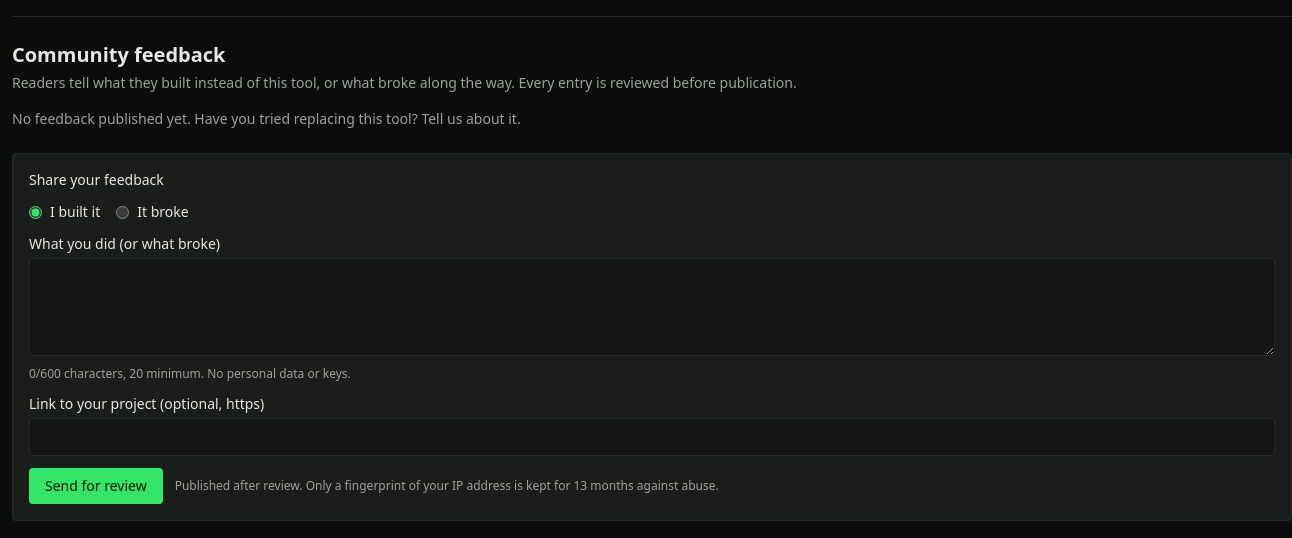
RetoursFiche › envoie un retour (avec la langue) et remercie
The width and height of the screenshot is (1292, 538).
Click the radio button labelled "It broke" at (123, 212), box [116,206,129,218]
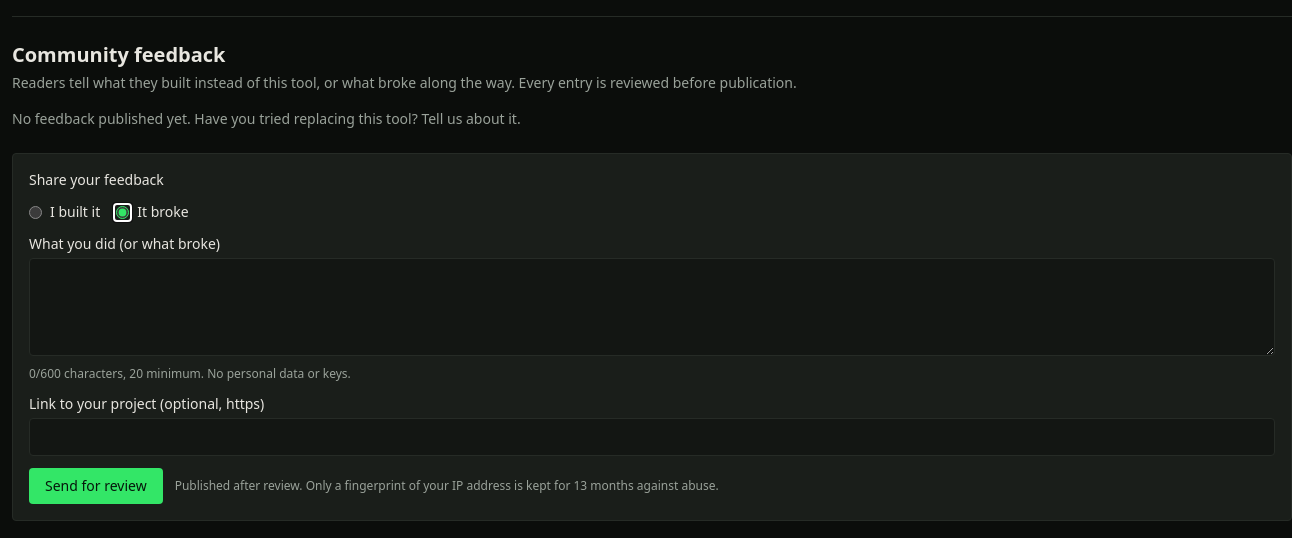
Type "The sync broke after a week of use, I went back." into the text box labelled "What you did (or what broke)" at (652, 307), box [29,258,1275,356]
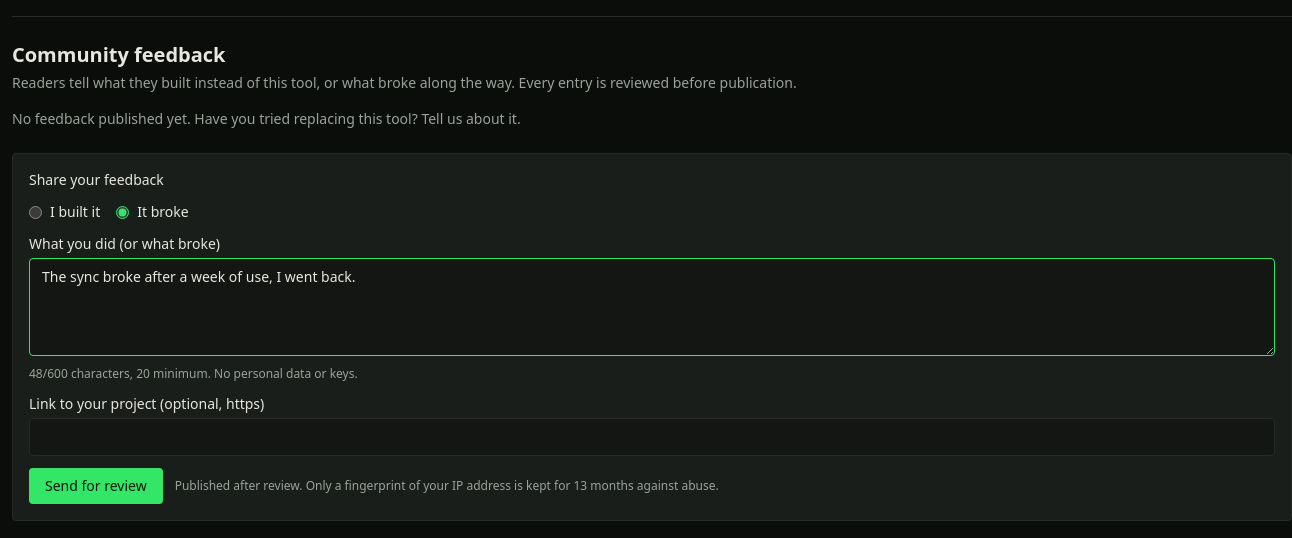
Click the button "Send for review" at (96, 486), box [29,468,163,504]
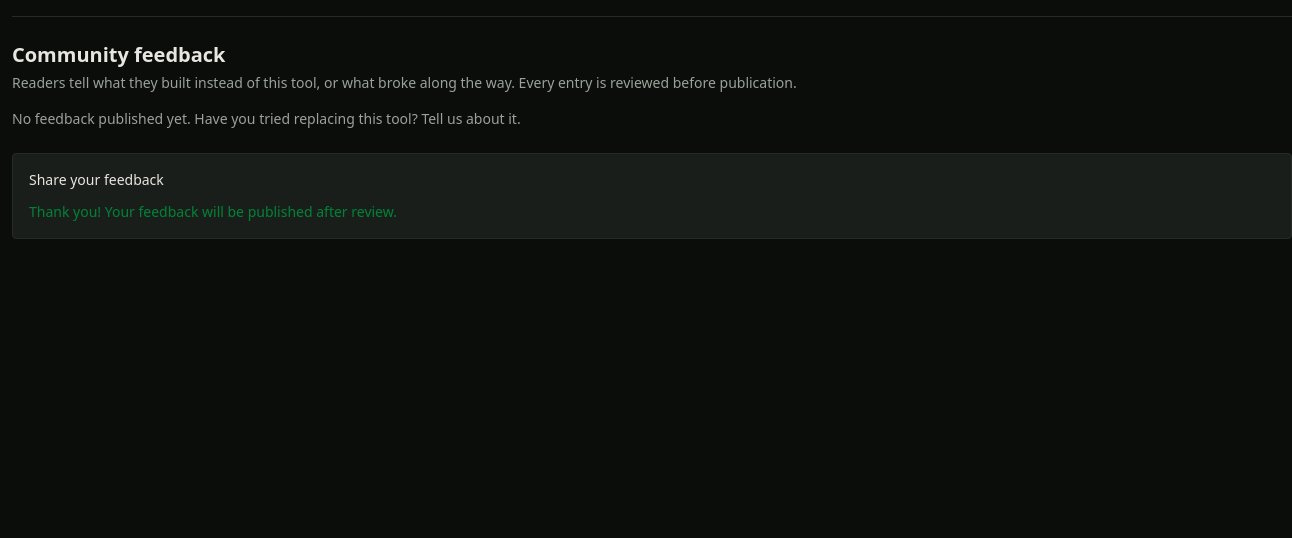
Now the message shows "Thank you", box [29,202,397,221]
